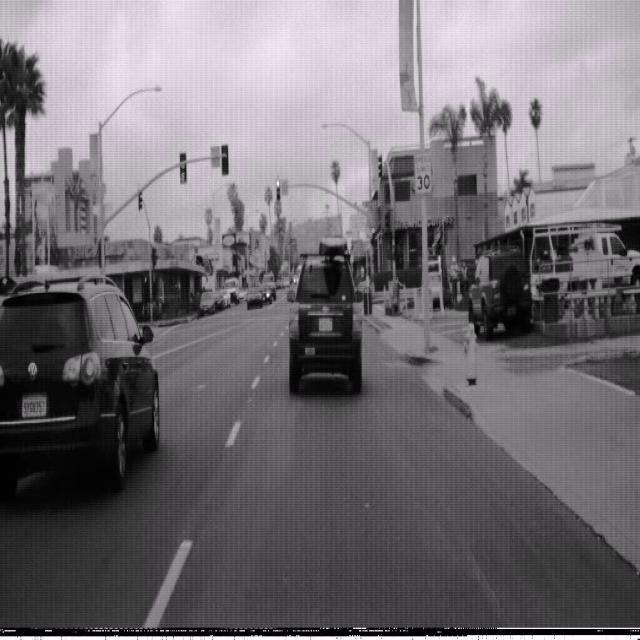speedLimit30: (413, 147, 433, 196)
